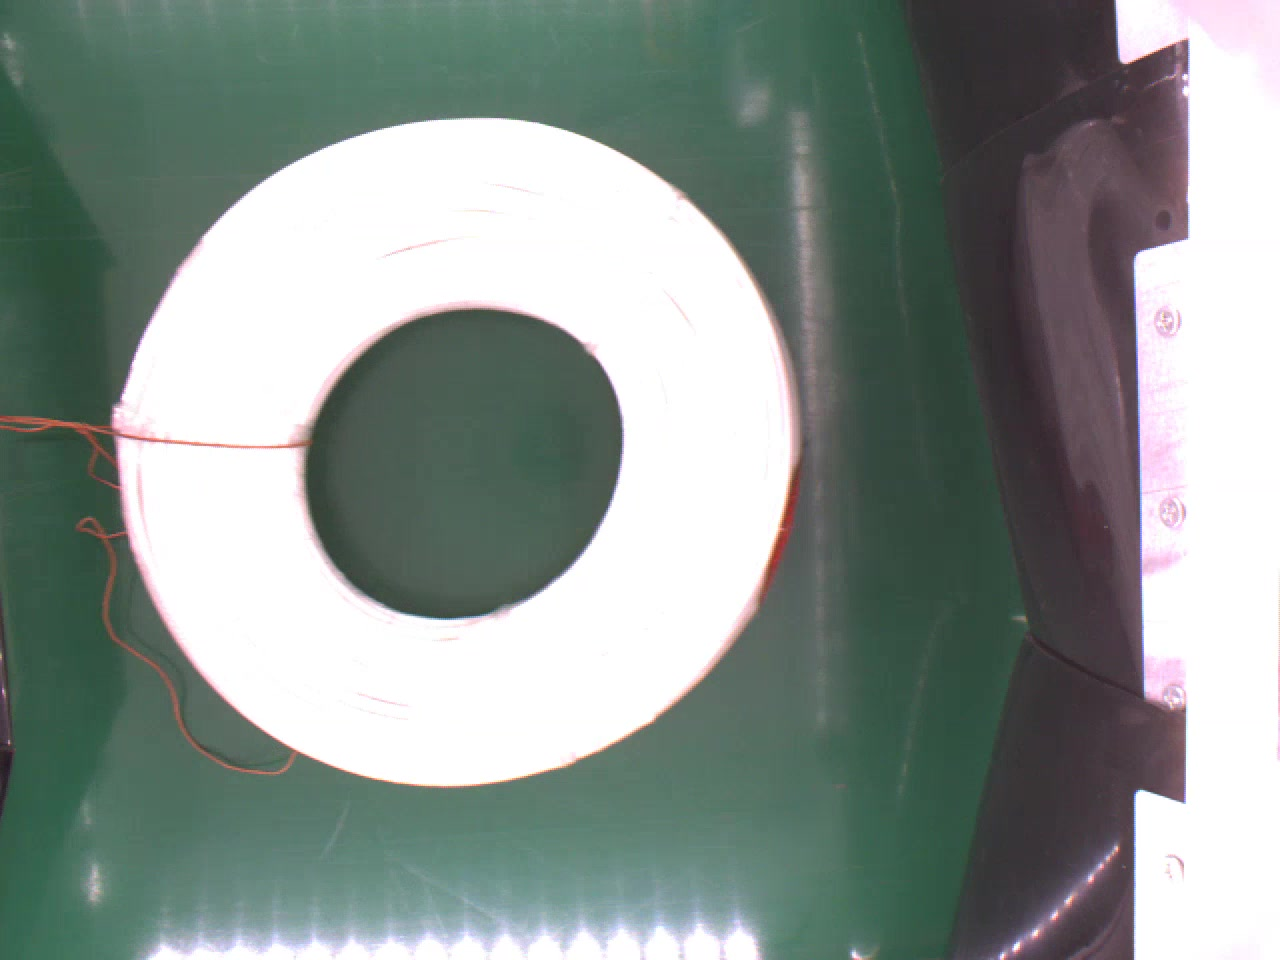white: (107, 116, 817, 788)
